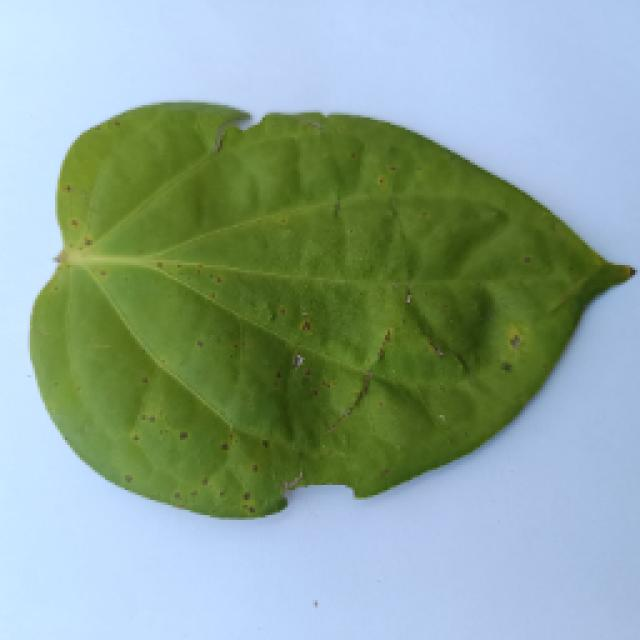slow-decline: (28, 105, 630, 513)
